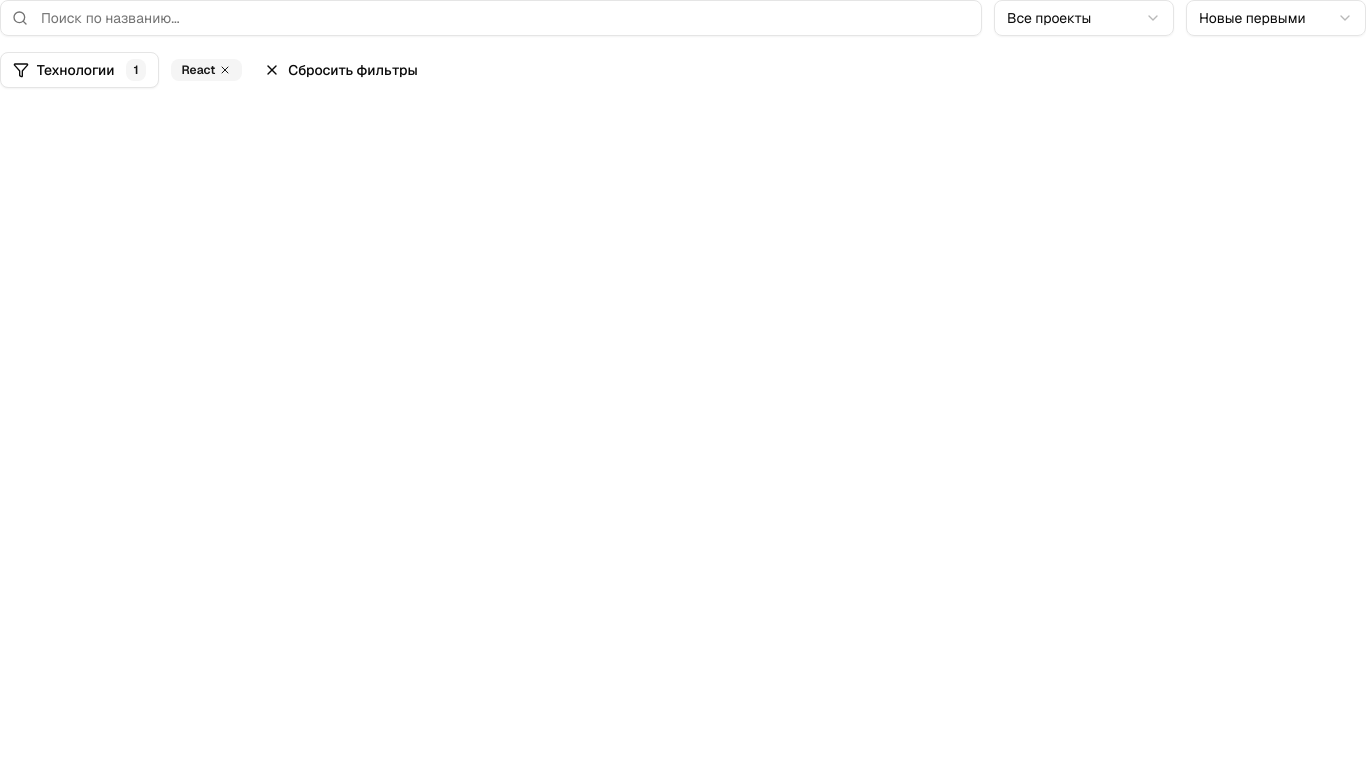
ProjectsFilters › Фильтр по технологиям › Кнопка очистки в Popover › отображается если есть выбранные технологии
Click the button "Технологии 1": (79,70) [0,52,158,88]
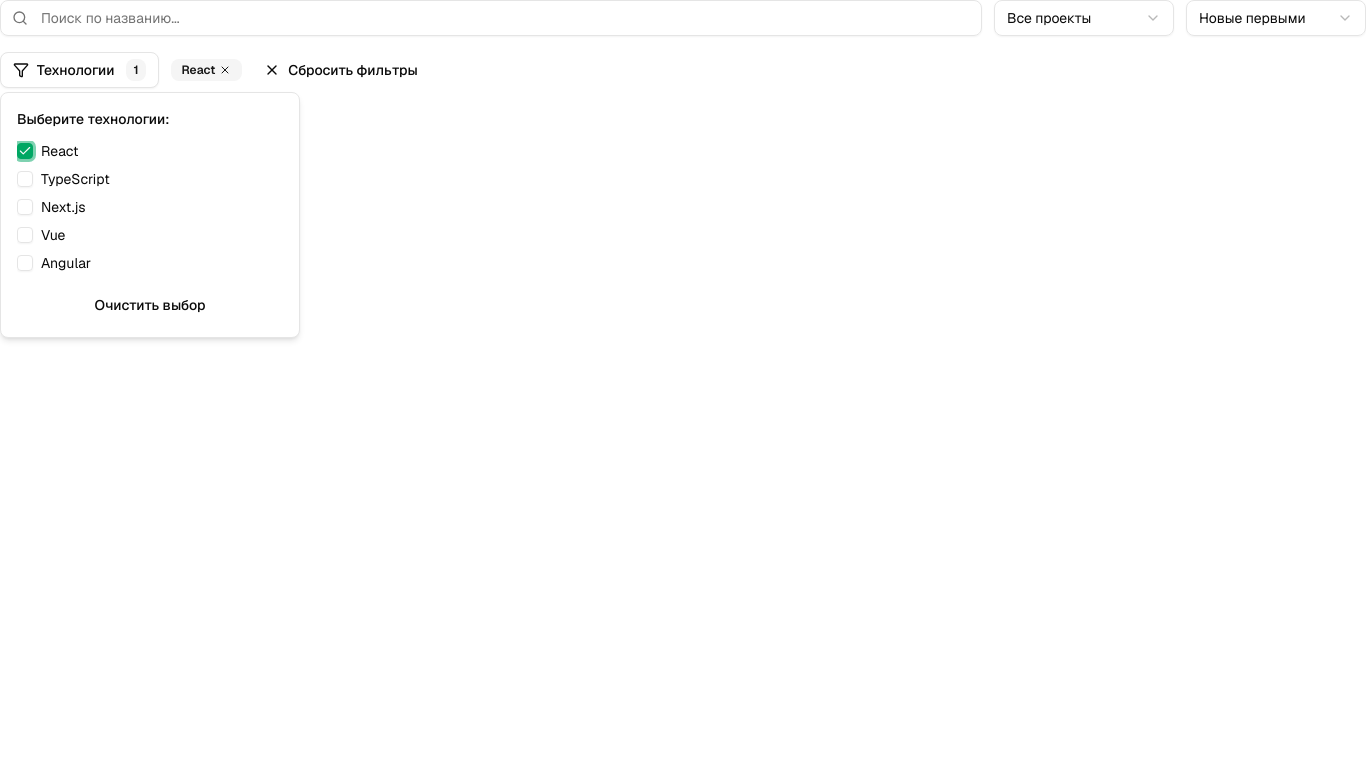
Now the button "Очистить выбор" is shown, box [17,289,283,321]
